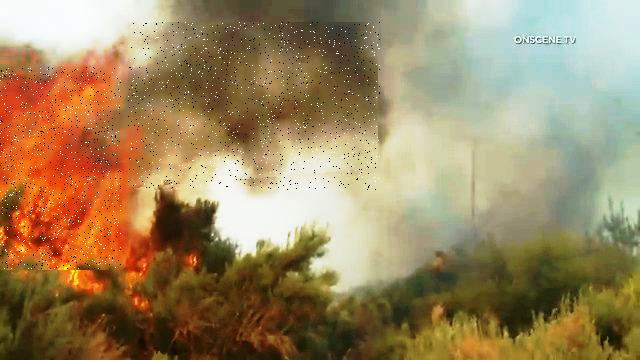fire: (0, 67, 121, 269)
smoke: (129, 23, 381, 191)
